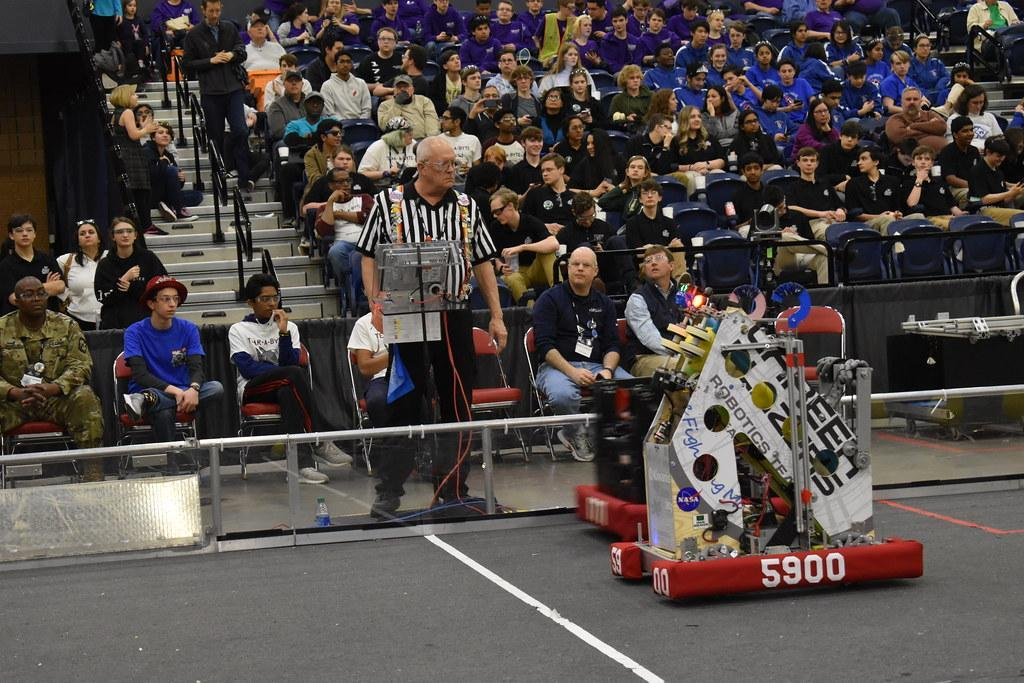robot: (610, 283, 933, 612), (576, 287, 800, 557)
